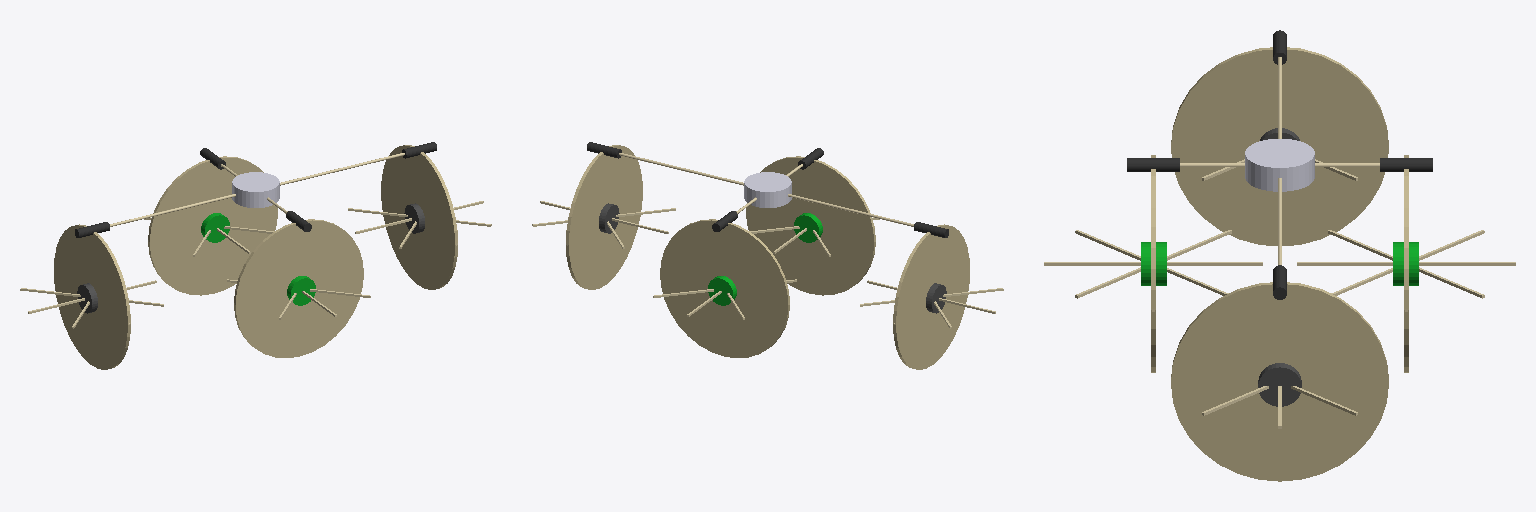
URDF robot description (goat_rover):
<?xml version="1.0"?>
<robot name="goat_rover">

  <!--
    GOAT ROVER — URDF v5
    ════════════════════════════════════════════════════════════════════
    Architecture :
      base_link (payload central, disque)
        ├── arm_X_pos  (bras rigide fixe, tube FG axe +X)
        │     └── connector_X_pos  (joint prismatique ±X, spring k=2000)
        │             └── wheel_X_pos  (continuous, axe rot Y)
        ├── arm_X_neg  symétrique
        ├── arm_Y_pos  (bras rigide fixe, tube FG axe +Y)
        │     └── connector_Y_pos  (joint prismatique ±Y, spring k=2000)
        │             └── wheel_Y_pos  (continuous, axe rot X)  ← moteur principal
        └── arm_Y_neg  symétrique

    Traversée du gap :
      - Robot avance en +Y  (axe Y = direction de traversée)
      - Largeur du robot    = L2 = 0.5787 m (distance wheel_Y_pos ↔ wheel_Y_neg)
      - Moteurs principaux  = wheel_joint_Y_pos + wheel_joint_Y_neg
      - wheel_X_pos/neg     = passives (roulent librement)
      - Couloir             = murs parallèles à l'axe Y, gap dans X

    Z_INIT = 0.50 m → bras à z=0, roues à z=0.25, contact sol à z=0
    ════════════════════════════════════════════════════════════════════
  -->

  <!-- ══ PAYLOAD ══ -->
  <link name="base_link">
    <inertial>
      <origin xyz="0 0 0" rpy="0 0 0"/>
      <mass value="1.8"/>
      <inertia ixx="0.05" ixy="0" ixz="0"
               iyy="0.05" iyz="0"
               izz="0.08"/>
    </inertial>
    <visual>
      <origin xyz="0 0 0" rpy="0 0 0"/>
      <geometry><cylinder radius="0.08" length="0.06"/></geometry>
      <material name="payload"><color rgba="0.85 0.85 0.90 1.0"/></material>
    </visual>
    <collision>
      <origin xyz="0 0 0" rpy="0 0 0"/>
      <geometry><cylinder radius="0.08" length="0.06"/></geometry>
    </collision>
  </link>

  <!-- ══ BRAS X+ (fixe, visuel tube FG) ══ -->
  <link name="arm_X_pos">
    <inertial>
      <origin xyz="0 0 0" rpy="0 0 0"/>
      <mass value="0.05"/>
      <inertia ixx="1e-5" ixy="0" ixz="0" iyy="1e-4" iyz="0" izz="1e-4"/>
    </inertial>
    <visual>
      <origin xyz="-0.3183 0 0" rpy="0 1.5708 0"/>
      <geometry><cylinder radius="0.005" length="0.6366"/></geometry>
      <material name="fg_beige"><color rgba="0.87 0.82 0.68 1.0"/></material>
    </visual>
  </link>
  <joint name="joint_arm_X_pos" type="fixed">
    <parent link="base_link"/>
    <child link="arm_X_pos"/>
    <origin xyz="0.6366 0.0 0.0" rpy="0 0 0"/>
  </joint>

  <!-- ══ CONNECTEUR X+ (prismatique ±X) ══ -->
  <link name="connector_X_pos">
    <inertial>
      <origin xyz="0 0 0" rpy="0 0 0"/>
      <mass value="0.10"/>
      <inertia ixx="2e-5" ixy="0" ixz="0" iyy="2e-4" iyz="0" izz="2e-4"/>
    </inertial>
    <visual>
      <origin xyz="0 0 0" rpy="0 1.5708 0"/>
      <geometry><cylinder radius="0.016" length="0.12"/></geometry>
      <material name="connector"><color rgba="0.25 0.25 0.25 1.0"/></material>
    </visual>
    <collision>
      <origin xyz="0 0 0" rpy="0 1.5708 0"/>
      <geometry><cylinder radius="0.016" length="0.12"/></geometry>
    </collision>
  </link>
  <joint name="joint_connector_X_pos" type="prismatic">
    <parent link="arm_X_pos"/>
    <child link="connector_X_pos"/>
    <origin xyz="0.0 0.0 0.0" rpy="0 0 0"/>
    <axis xyz="1 0 0"/>
    <limit lower="-0.18" upper="0.18" effort="300.0" velocity="2.0"/>
    <dynamics damping="120.0" friction="0.0"/>
  </joint>

  <!-- ══ ROUE X+ (passive, axe rot Y) ══ -->
  <link name="wheel_X_pos">
    <inertial>
      <origin xyz="0 0 0" rpy="0 0 0"/>
      <mass value="0.11"/>
      <inertia ixx="0.00173" ixy="0" ixz="0"
               iyy="0.00344" iyz="0"
               izz="0.00173"/>
    </inertial>
    <!-- Hub -->
    <visual>
      <origin xyz="0 0 0" rpy="0 1.5708 0"/>
      <geometry><cylinder radius="0.05" length="0.06"/></geometry>
      <material name="hub"><color rgba="0.35 0.35 0.35 1.0"/></material>
    </visual>
    <!-- Rayons FG (4 rayons croisés) -->
    <visual><origin xyz="0 0 0" rpy="0 0 0"/><geometry><box size="0.50 0.007 0.007"/></geometry><material name="fg_beige"/></visual>
    <visual><origin xyz="0 0 0" rpy="0 0 0.7854"/><geometry><box size="0.50 0.007 0.007"/></geometry><material name="fg_beige"/></visual>
    <visual><origin xyz="0 0 0" rpy="0 0 1.5708"/><geometry><box size="0.50 0.007 0.007"/></geometry><material name="fg_beige"/></visual>
    <visual><origin xyz="0 0 0" rpy="0 0 2.3562"/><geometry><box size="0.50 0.007 0.007"/></geometry><material name="fg_beige"/></visual>
    <!-- Jante (anneau) -->
    <visual>
      <origin xyz="0 0 0" rpy="0 1.5708 0"/>
      <geometry><cylinder radius="0.25" length="0.012"/></geometry>
      <material name="rim"><color rgba="0.80 0.75 0.60 1.0"/></material>
    </visual>
    <collision>
      <origin xyz="0 0 0" rpy="0 1.5708 0"/>
      <geometry><cylinder radius="0.25" length="0.04"/></geometry>
    </collision>
  </link>
  <joint name="wheel_joint_X_pos" type="continuous">
    <parent link="connector_X_pos"/>
    <child link="wheel_X_pos"/>
    <origin xyz="0.0 0.0 -0.25" rpy="0 0 0"/>
    <axis xyz="0 1 0"/>
    <dynamics damping="0.04" friction="0.01"/>
  </joint>

  <!-- ══ BRAS X- ══ -->
  <link name="arm_X_neg">
    <inertial>
      <origin xyz="0 0 0" rpy="0 0 0"/>
      <mass value="0.05"/>
      <inertia ixx="1e-5" ixy="0" ixz="0" iyy="1e-4" iyz="0" izz="1e-4"/>
    </inertial>
    <visual>
      <origin xyz="0.3183 0 0" rpy="0 1.5708 0"/>
      <geometry><cylinder radius="0.005" length="0.6366"/></geometry>
      <material name="fg_beige"/>
    </visual>
  </link>
  <joint name="joint_arm_X_neg" type="fixed">
    <parent link="base_link"/>
    <child link="arm_X_neg"/>
    <origin xyz="-0.6366 0.0 0.0" rpy="0 0 0"/>
  </joint>

  <!-- ══ CONNECTEUR X- ══ -->
  <link name="connector_X_neg">
    <inertial>
      <origin xyz="0 0 0" rpy="0 0 0"/>
      <mass value="0.10"/>
      <inertia ixx="2e-5" ixy="0" ixz="0" iyy="2e-4" iyz="0" izz="2e-4"/>
    </inertial>
    <visual>
      <origin xyz="0 0 0" rpy="0 1.5708 0"/>
      <geometry><cylinder radius="0.016" length="0.12"/></geometry>
      <material name="connector"/>
    </visual>
    <collision>
      <origin xyz="0 0 0" rpy="0 1.5708 0"/>
      <geometry><cylinder radius="0.016" length="0.12"/></geometry>
    </collision>
  </link>
  <joint name="joint_connector_X_neg" type="prismatic">
    <parent link="arm_X_neg"/>
    <child link="connector_X_neg"/>
    <origin xyz="0.0 0.0 0.0" rpy="0 0 0"/>
    <axis xyz="-1 0 0"/>
    <limit lower="-0.18" upper="0.18" effort="300.0" velocity="2.0"/>
    <dynamics damping="120.0" friction="0.0"/>
  </joint>

  <!-- ══ ROUE X- ══ -->
  <link name="wheel_X_neg">
    <inertial>
      <origin xyz="0 0 0" rpy="0 0 0"/>
      <mass value="0.11"/>
      <inertia ixx="0.00173" ixy="0" ixz="0"
               iyy="0.00344" iyz="0"
               izz="0.00173"/>
    </inertial>
    <visual>
      <origin xyz="0 0 0" rpy="0 1.5708 0"/>
      <geometry><cylinder radius="0.05" length="0.06"/></geometry>
      <material name="hub"/>
    </visual>
    <visual><origin xyz="0 0 0" rpy="0 0 0"/><geometry><box size="0.50 0.007 0.007"/></geometry><material name="fg_beige"/></visual>
    <visual><origin xyz="0 0 0" rpy="0 0 0.7854"/><geometry><box size="0.50 0.007 0.007"/></geometry><material name="fg_beige"/></visual>
    <visual><origin xyz="0 0 0" rpy="0 0 1.5708"/><geometry><box size="0.50 0.007 0.007"/></geometry><material name="fg_beige"/></visual>
    <visual><origin xyz="0 0 0" rpy="0 0 2.3562"/><geometry><box size="0.50 0.007 0.007"/></geometry><material name="fg_beige"/></visual>
    <visual>
      <origin xyz="0 0 0" rpy="0 1.5708 0"/>
      <geometry><cylinder radius="0.25" length="0.012"/></geometry>
      <material name="rim"/>
    </visual>
    <collision>
      <origin xyz="0 0 0" rpy="0 1.5708 0"/>
      <geometry><cylinder radius="0.25" length="0.04"/></geometry>
    </collision>
  </link>
  <joint name="wheel_joint_X_neg" type="continuous">
    <parent link="connector_X_neg"/>
    <child link="wheel_X_neg"/>
    <origin xyz="0.0 0.0 -0.25" rpy="0 0 0"/>
    <axis xyz="0 1 0"/>
    <dynamics damping="0.04" friction="0.01"/>
  </joint>

  <!-- ══ BRAS Y+ (axe court, direction d'avance) ══ -->
  <link name="arm_Y_pos">
    <inertial>
      <origin xyz="0 0 0" rpy="0 0 0"/>
      <mass value="0.05"/>
      <inertia ixx="1e-4" ixy="0" ixz="0" iyy="1e-5" iyz="0" izz="1e-4"/>
    </inertial>
    <visual>
      <origin xyz="0 -0.1447 0" rpy="1.5708 0 0"/>
      <geometry><cylinder radius="0.005" length="0.2894"/></geometry>
      <material name="fg_beige"/>
    </visual>
  </link>
  <joint name="joint_arm_Y_pos" type="fixed">
    <parent link="base_link"/>
    <child link="arm_Y_pos"/>
    <origin xyz="0.0 0.2894 0.0" rpy="0 0 0"/>
  </joint>

  <!-- ══ CONNECTEUR Y+ ══ -->
  <link name="connector_Y_pos">
    <inertial>
      <origin xyz="0 0 0" rpy="0 0 0"/>
      <mass value="0.10"/>
      <inertia ixx="2e-4" ixy="0" ixz="0" iyy="2e-5" iyz="0" izz="2e-4"/>
    </inertial>
    <visual>
      <origin xyz="0 0 0" rpy="1.5708 0 0"/>
      <geometry><cylinder radius="0.016" length="0.12"/></geometry>
      <material name="connector"/>
    </visual>
    <collision>
      <origin xyz="0 0 0" rpy="1.5708 0 0"/>
      <geometry><cylinder radius="0.016" length="0.12"/></geometry>
    </collision>
  </link>
  <joint name="joint_connector_Y_pos" type="prismatic">
    <parent link="arm_Y_pos"/>
    <child link="connector_Y_pos"/>
    <origin xyz="0.0 0.0 0.0" rpy="0 0 0"/>
    <axis xyz="0 1 0"/>
    <limit lower="-0.10" upper="0.10" effort="300.0" velocity="2.0"/>
    <dynamics damping="120.0" friction="0.0"/>
  </joint>

  <!-- ══ ROUE Y+ (motrice, axe rot X) ══ -->
  <link name="wheel_Y_pos">
    <inertial>
      <origin xyz="0 0 0" rpy="0 0 0"/>
      <mass value="0.11"/>
      <inertia ixx="0.00344" ixy="0" ixz="0"
               iyy="0.00173" iyz="0"
               izz="0.00173"/>
    </inertial>
    <visual>
      <origin xyz="0 0 0" rpy="1.5708 0 0"/>
      <geometry><cylinder radius="0.05" length="0.06"/></geometry>
      <material name="hub_green"><color rgba="0.1 0.7 0.2 1.0"/></material>
    </visual>
    <visual><origin xyz="0 0 0" rpy="0 0 0"/><geometry><box size="0.50 0.007 0.007"/></geometry><material name="fg_beige"/></visual>
    <visual><origin xyz="0 0 0" rpy="0 0 0.7854"/><geometry><box size="0.50 0.007 0.007"/></geometry><material name="fg_beige"/></visual>
    <visual><origin xyz="0 0 0" rpy="0 0 1.5708"/><geometry><box size="0.50 0.007 0.007"/></geometry><material name="fg_beige"/></visual>
    <visual><origin xyz="0 0 0" rpy="0 0 2.3562"/><geometry><box size="0.50 0.007 0.007"/></geometry><material name="fg_beige"/></visual>
    <visual>
      <origin xyz="0 0 0" rpy="1.5708 0 0"/>
      <geometry><cylinder radius="0.25" length="0.012"/></geometry>
      <material name="rim"/>
    </visual>
    <collision>
      <origin xyz="0 0 0" rpy="1.5708 0 0"/>
      <geometry><cylinder radius="0.25" length="0.04"/></geometry>
    </collision>
  </link>
  <joint name="wheel_joint_Y_pos" type="continuous">
    <parent link="connector_Y_pos"/>
    <child link="wheel_Y_pos"/>
    <origin xyz="0.0 0.0 -0.25" rpy="0 0 0"/>
    <axis xyz="1 0 0"/>
    <dynamics damping="0.04" friction="0.01"/>
  </joint>

  <!-- ══ BRAS Y- ══ -->
  <link name="arm_Y_neg">
    <inertial>
      <origin xyz="0 0 0" rpy="0 0 0"/>
      <mass value="0.05"/>
      <inertia ixx="1e-4" ixy="0" ixz="0" iyy="1e-5" iyz="0" izz="1e-4"/>
    </inertial>
    <visual>
      <origin xyz="0 0.1447 0" rpy="1.5708 0 0"/>
      <geometry><cylinder radius="0.005" length="0.2894"/></geometry>
      <material name="fg_beige"/>
    </visual>
  </link>
  <joint name="joint_arm_Y_neg" type="fixed">
    <parent link="base_link"/>
    <child link="arm_Y_neg"/>
    <origin xyz="0.0 -0.2894 0.0" rpy="0 0 0"/>
  </joint>

  <!-- ══ CONNECTEUR Y- ══ -->
  <link name="connector_Y_neg">
    <inertial>
      <origin xyz="0 0 0" rpy="0 0 0"/>
      <mass value="0.10"/>
      <inertia ixx="2e-4" ixy="0" ixz="0" iyy="2e-5" iyz="0" izz="2e-4"/>
    </inertial>
    <visual>
      <origin xyz="0 0 0" rpy="1.5708 0 0"/>
      <geometry><cylinder radius="0.016" length="0.12"/></geometry>
      <material name="connector"/>
    </visual>
    <collision>
      <origin xyz="0 0 0" rpy="1.5708 0 0"/>
      <geometry><cylinder radius="0.016" length="0.12"/></geometry>
    </collision>
  </link>
  <joint name="joint_connector_Y_neg" type="prismatic">
    <parent link="arm_Y_neg"/>
    <child link="connector_Y_neg"/>
    <origin xyz="0.0 0.0 0.0" rpy="0 0 0"/>
    <axis xyz="0 -1 0"/>
    <limit lower="-0.10" upper="0.10" effort="300.0" velocity="2.0"/>
    <dynamics damping="120.0" friction="0.0"/>
  </joint>

  <!-- ══ ROUE Y- (motrice, axe rot X) ══ -->
  <link name="wheel_Y_neg">
    <inertial>
      <origin xyz="0 0 0" rpy="0 0 0"/>
      <mass value="0.11"/>
      <inertia ixx="0.00344" ixy="0" ixz="0"
               iyy="0.00173" iyz="0"
               izz="0.00173"/>
    </inertial>
    <visual>
      <origin xyz="0 0 0" rpy="1.5708 0 0"/>
      <geometry><cylinder radius="0.05" length="0.06"/></geometry>
      <material name="hub_green"/>
    </visual>
    <visual><origin xyz="0 0 0" rpy="0 0 0"/><geometry><box size="0.50 0.007 0.007"/></geometry><material name="fg_beige"/></visual>
    <visual><origin xyz="0 0 0" rpy="0 0 0.7854"/><geometry><box size="0.50 0.007 0.007"/></geometry><material name="fg_beige"/></visual>
    <visual><origin xyz="0 0 0" rpy="0 0 1.5708"/><geometry><box size="0.50 0.007 0.007"/></geometry><material name="fg_beige"/></visual>
    <visual><origin xyz="0 0 0" rpy="0 0 2.3562"/><geometry><box size="0.50 0.007 0.007"/></geometry><material name="fg_beige"/></visual>
    <visual>
      <origin xyz="0 0 0" rpy="1.5708 0 0"/>
      <geometry><cylinder radius="0.25" length="0.012"/></geometry>
      <material name="rim"/>
    </visual>
    <collision>
      <origin xyz="0 0 0" rpy="1.5708 0 0"/>
      <geometry><cylinder radius="0.25" length="0.04"/></geometry>
    </collision>
  </link>
  <joint name="wheel_joint_Y_neg" type="continuous">
    <parent link="connector_Y_neg"/>
    <child link="wheel_Y_neg"/>
    <origin xyz="0.0 0.0 -0.25" rpy="0 0 0"/>
    <axis xyz="1 0 0"/>
    <dynamics damping="0.04" friction="0.01"/>
  </joint>

</robot>

--- What the picture shows (computed from the rendered views, not written in the file) ---
Views: 3 orthographic renders of the robot side by side, from view 1: azimuth 30°, elevation 25°; view 2: azimuth 150°, elevation 25°; view 3: azimuth 270°, elevation 25°.
Model goat_rover with 13 links and 12 joints (4 continuous, 4 prismatic, 4 fixed), rooted at base_link, posed every joint at zero.
Visible links, largest first — view 1: wheel_Y_neg, wheel_Y_pos, wheel_X_neg, wheel_X_pos, base_link; view 2: wheel_Y_pos, wheel_Y_neg, wheel_X_neg, wheel_X_pos, base_link; view 3: wheel_X_pos, wheel_X_neg, wheel_Y_pos, wheel_Y_neg, base_link, connector_Y_pos, connector_Y_neg.
Boxes of the visible links, left/top/right/bottom form: wheel_Y_neg: left=227, top=219, right=370, bottom=357; wheel_Y_pos: left=144, top=156, right=277, bottom=295; wheel_X_neg: left=20, top=224, right=163, bottom=369; wheel_X_pos: left=348, top=145, right=491, bottom=289; base_link: left=232, top=172, right=279, bottom=207; wheel_Y_pos: left=653, top=219, right=796, bottom=357; wheel_Y_neg: left=746, top=156, right=879, bottom=295; wheel_X_neg: left=860, top=224, right=1003, bottom=369; wheel_X_pos: left=532, top=145, right=675, bottom=289; base_link: left=744, top=172, right=791, bottom=207; wheel_X_pos: left=1171, top=282, right=1388, bottom=481; wheel_X_neg: left=1171, top=47, right=1388, bottom=245; wheel_Y_pos: left=1297, top=155, right=1515, bottom=372; wheel_Y_neg: left=1044, top=155, right=1262, bottom=372; base_link: left=1245, top=139, right=1314, bottom=191; connector_Y_pos: left=1380, top=158, right=1432, bottom=171; connector_Y_neg: left=1127, top=158, right=1179, bottom=171.
Bounding box of the posed robot: 1.77 × 1.08 × 0.53 m (x, y, z).
Geometry: primitives only (box / cylinder / sphere), no mesh files.
